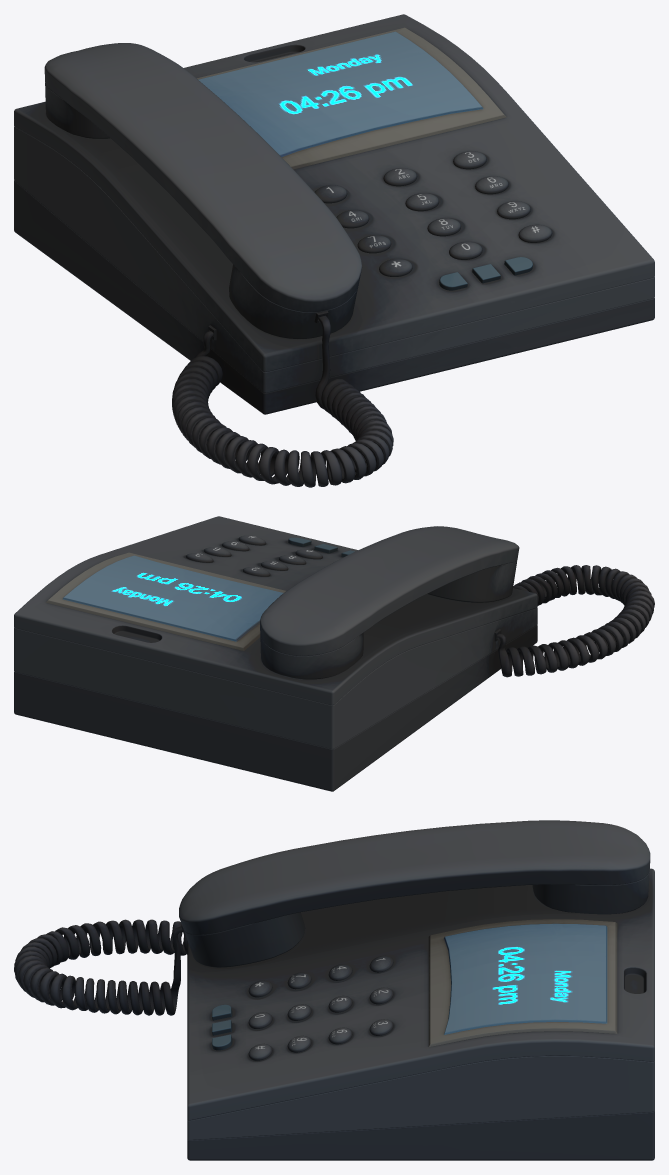
Rendered from electronic-8.glb.
3 views of the same model, one above another, from view 1: azimuth 30°, elevation 25°; view 2: azimuth 150°, elevation 25°; view 3: azimuth 270°, elevation 25° (orthographic). The views are drawn at different scales.
Visible parts, largest first — view 1: desk_telephone.1; view 2: desk_telephone.1; view 3: desk_telephone.1.
Part boxes in pixels (box(x1,y1,x2,y2)): desk_telephone.1: box(14, 14, 654, 487); desk_telephone.1: box(14, 516, 654, 791); desk_telephone.1: box(14, 820, 654, 1160).
Bounding box in the file's own units: 0.2211 × 0.0811 × 0.2725.
Materials: 1 (1 with a texture image).
